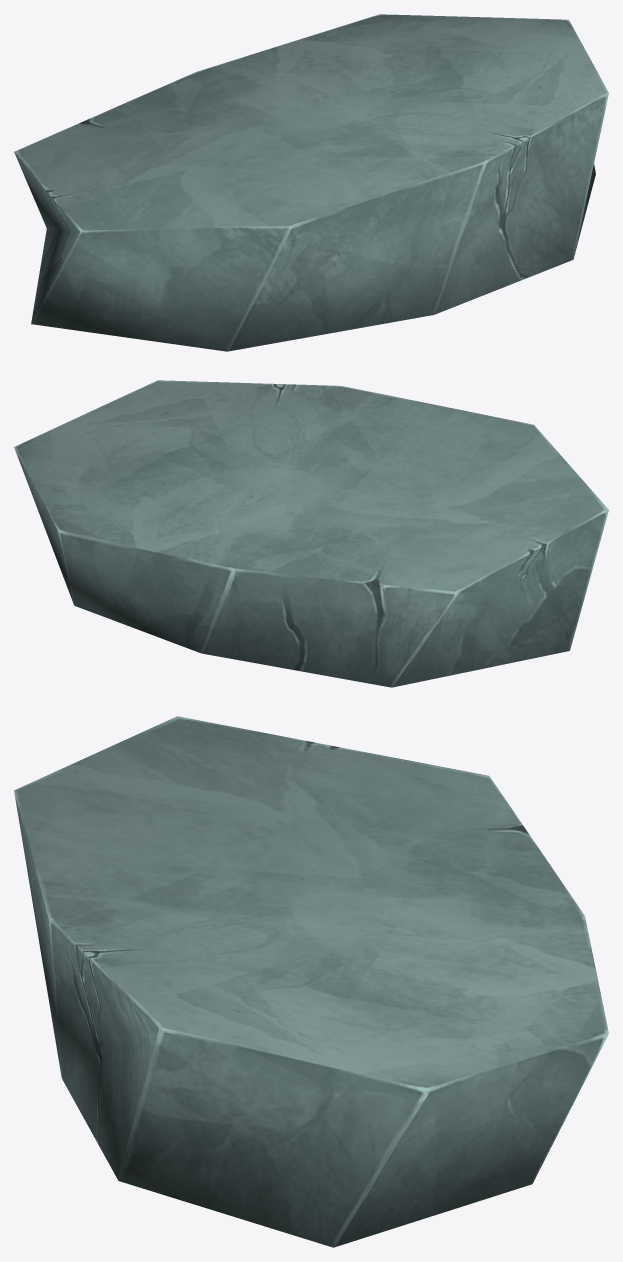
File: Rock 1.fbx
The picture shows the model from 3 angles, top to bottom: view 1: azimuth 30°, elevation 25°; view 2: azimuth 150°, elevation 25°; view 3: azimuth 270°, elevation 25°; orthographic projection. The views are drawn at different scales.
Parts seen in each view (by area): view 1: pPlane4; view 2: pPlane4; view 3: pPlane4.
Boxes of the visible parts, x1,y1,x2,y2 form: pPlane4: (14, 14, 608, 351); pPlane4: (14, 380, 608, 687); pPlane4: (14, 716, 608, 1247).
Size of the model in its own units: 7.39 by 1.75 by 4.97.
